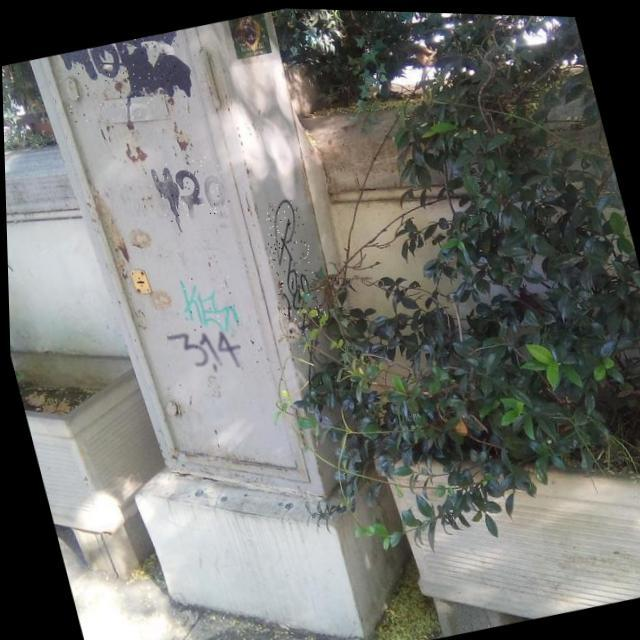-: (56, 25, 200, 125), (254, 195, 328, 336), (144, 148, 230, 226), (163, 316, 242, 380), (170, 266, 240, 332)
